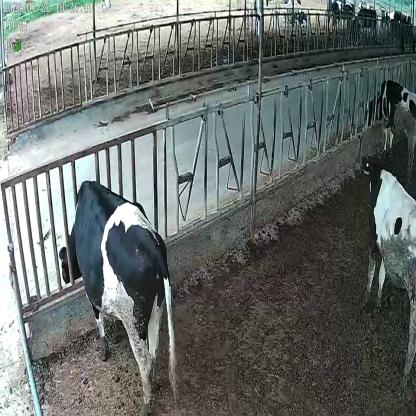cow: (57, 178, 178, 415), (360, 152, 416, 377), (365, 76, 416, 178)
